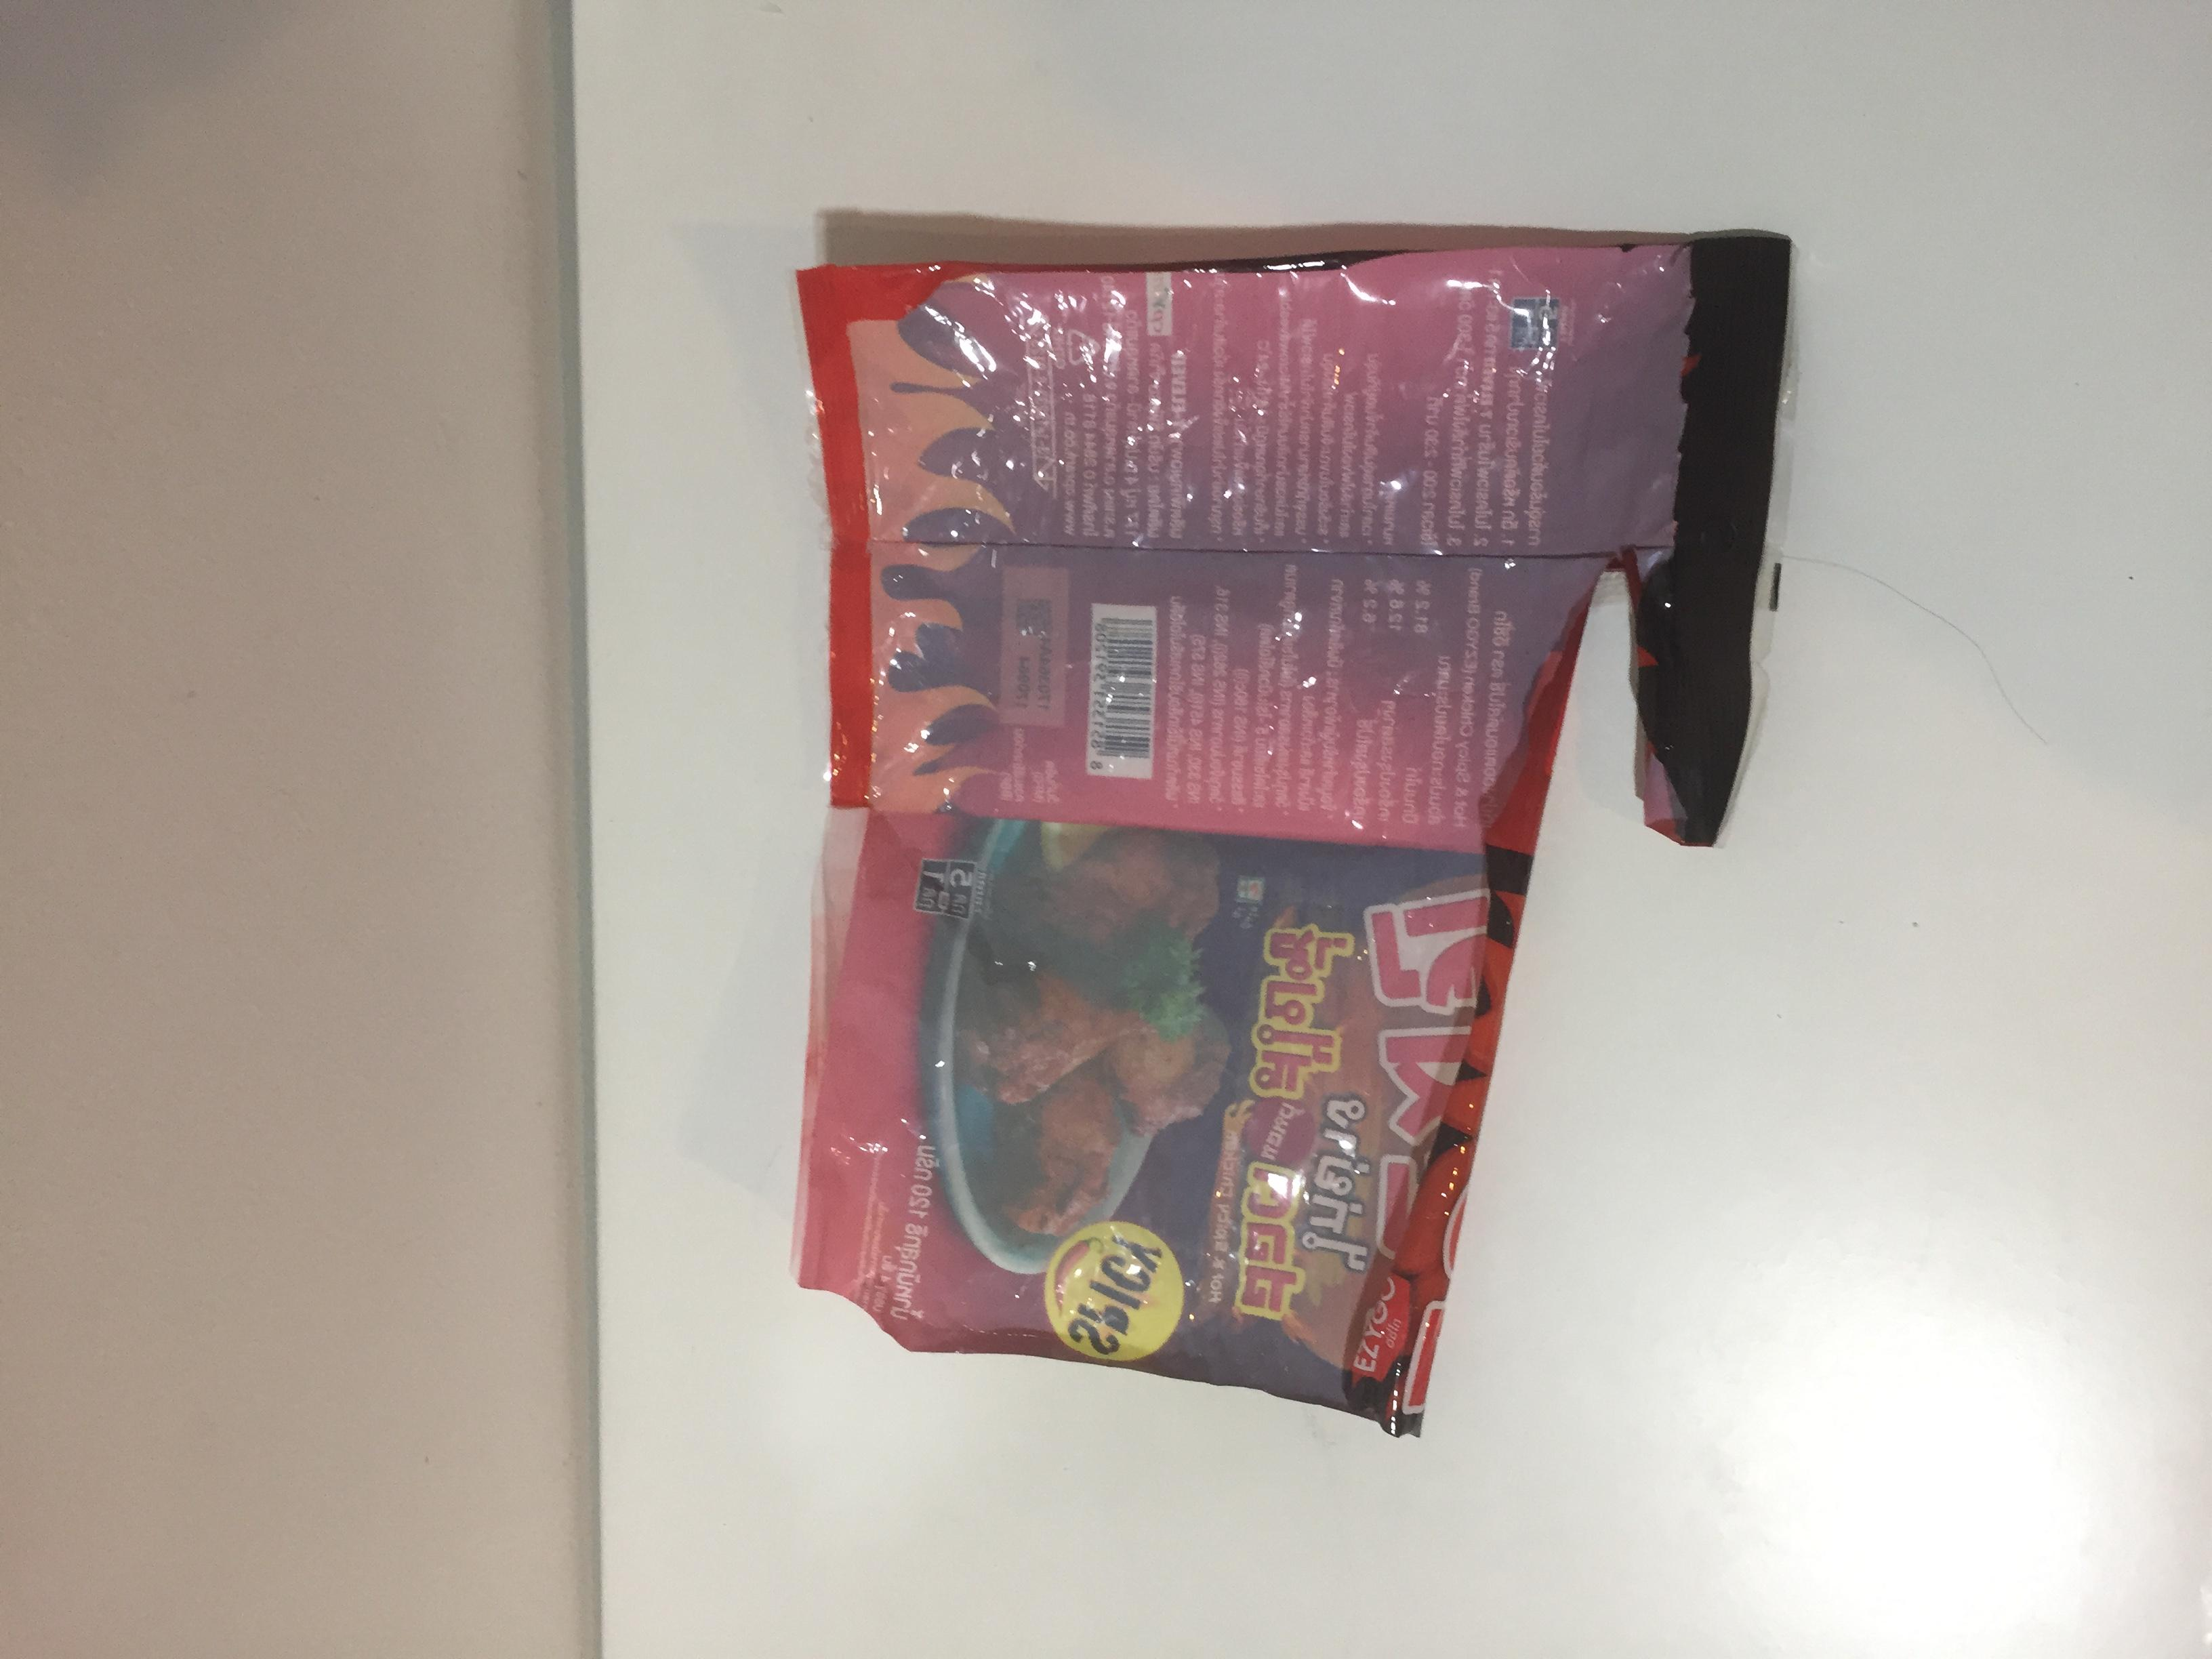plastic: (300, 565, 1965, 1385), (1019, 516, 1979, 1396), (300, 566, 1031, 1213)
